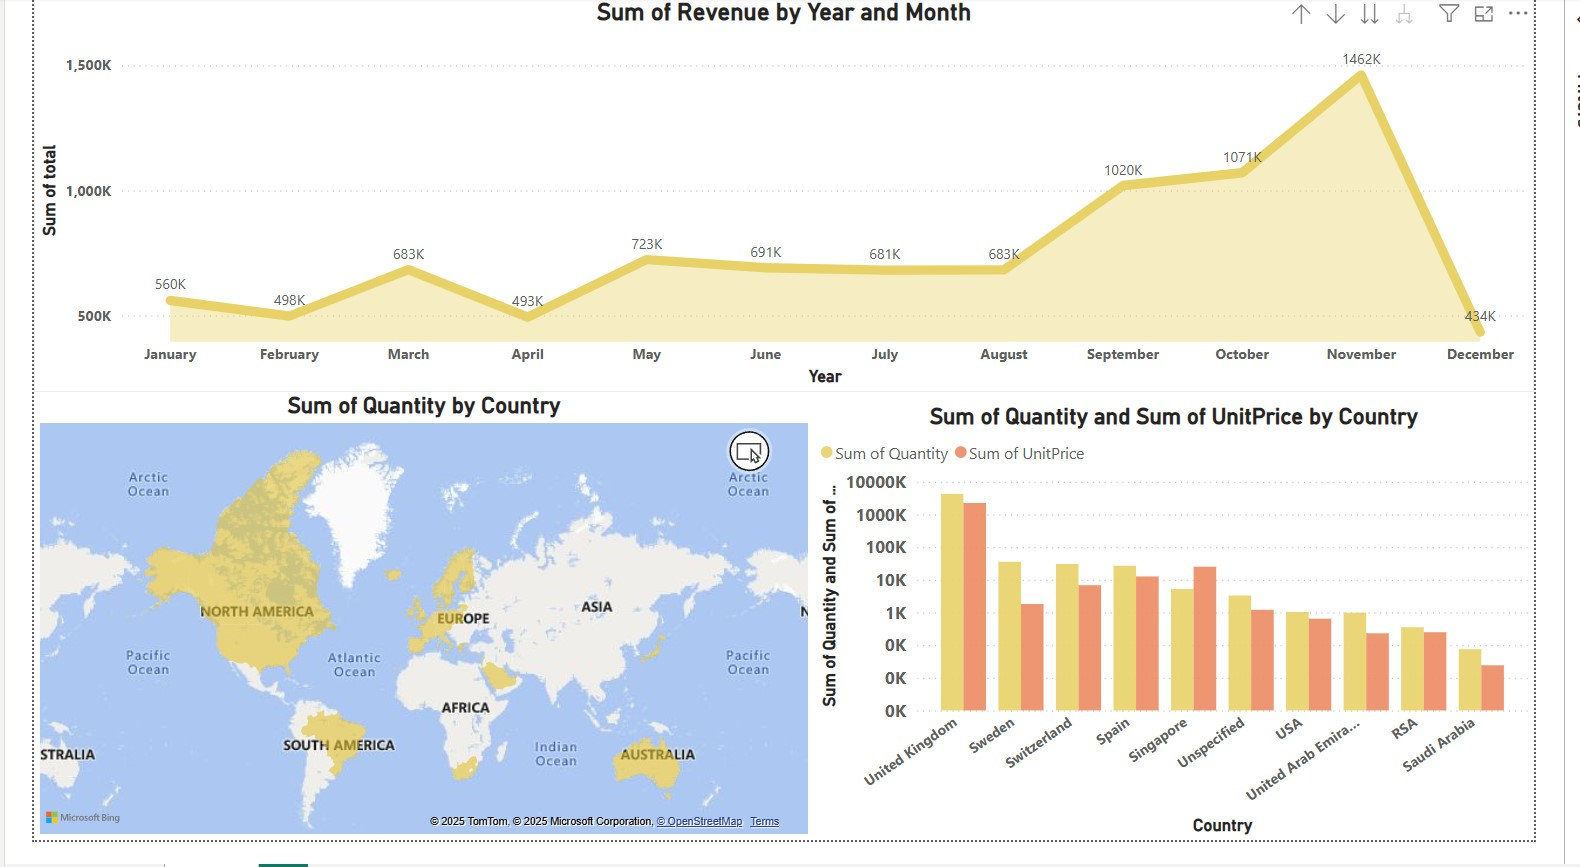

The page's visual inventory and layout, read from the dashboard file:
{"tool":"powerbi","page":{"name":"Page 1","canvas":[1280,720],"ordinal":0},"visuals":[{"type":"lineChart","title":"Sum of Revenue by Year and Month","fields":{"Category":["Online Retail.InvoiceDate.Variation.Date Hierarchy.Year","Online Retail.InvoiceDate.Variation.Date Hierarchy.Quarter","Online Retail.InvoiceDate.Variation.Date Hierarchy.Month","Online Retail.InvoiceDate.Variation.Date Hierarchy.Day"],"Y":["Sum(Online Retail.total)"]},"box":[0,0,1280,337.1],"z":0},{"type":"clusteredColumnChart","fields":{"Category":["Online Retail.Country"],"Y":["Sum(Online Retail.Quantity)","Sum(Online Retail.UnitPrice)"]},"box":[665.7,347.1,614.3,372.9],"z":1000},{"type":"filledMap","fields":{"Category":["Online Retail.Country"]},"box":[0,337.1,665.7,382.9],"z":2000}]}

Visuals, with their boxes in screenshot pixels (x1, y1, x2, y2), scaled from the page's 1280x720 canvas onto the 1580x867 screenshot:
"Sum of Revenue by Year and Month" lineChart: crop(0, 0, 1579, 406)
clusteredColumnChart - Online Retail.Country x Sum(Online Retail.Quantity): crop(822, 418, 1579, 866)
filledMap - Online Retail.Country: crop(0, 406, 822, 866)
